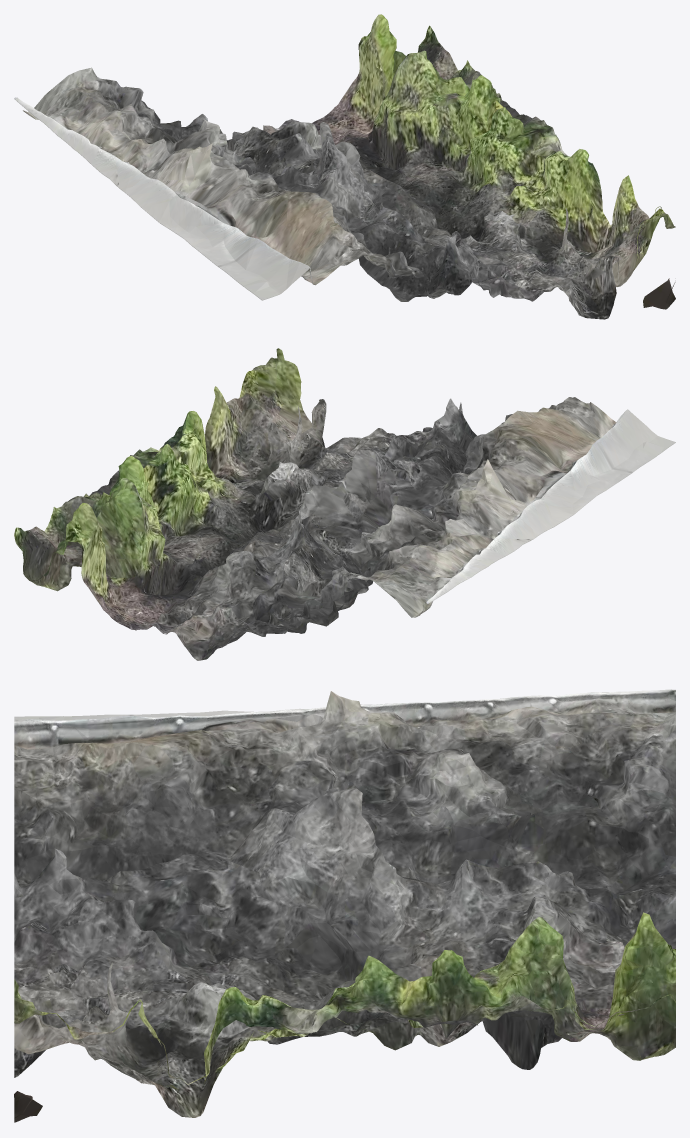
The model's file is Block_L20_188.glb.
3 views of the same model, one above another, from view 1: azimuth 30°, elevation 25°; view 2: azimuth 150°, elevation 25°; view 3: azimuth 270°, elevation 25° (orthographic). The views are drawn at different scales.
Parts seen in each view (by area): view 1: rtc; view 2: rtc; view 3: rtc.
Part boxes in pixels (left/top/right/bottom): rtc: left=14, top=14, right=675, bottom=319; rtc: left=14, top=348, right=675, bottom=660; rtc: left=14, top=689, right=675, bottom=1122.
Bounding box in the file's own units: 20.38 × 7.73 × 21.18.
4 materials, 4 textured.
